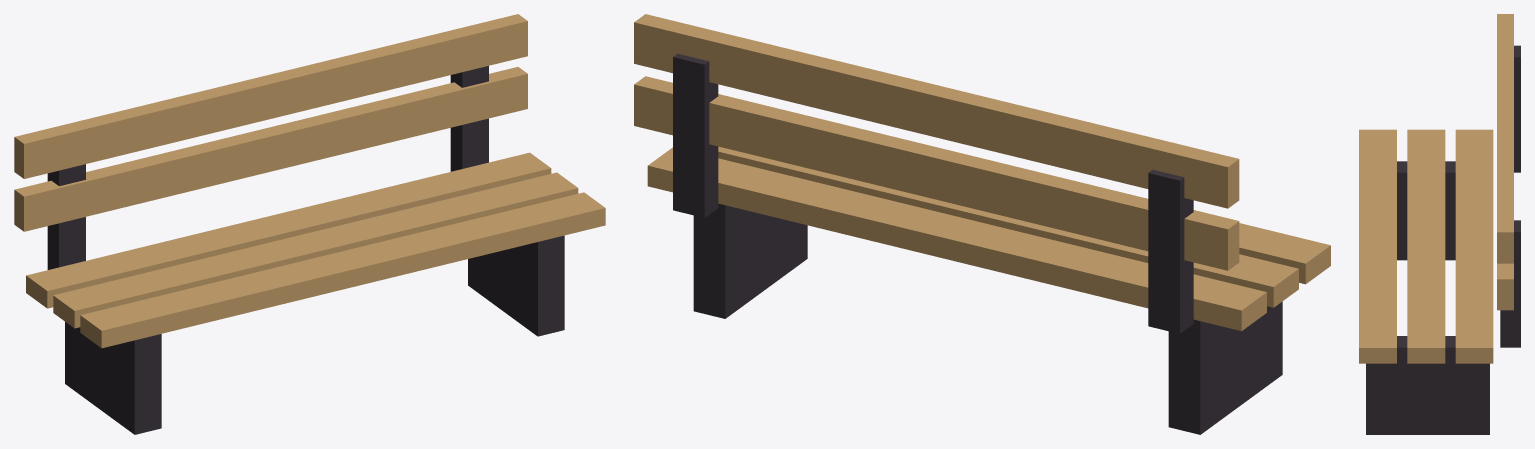
File: monatium_bench.glb
3 views of the same model, side by side, from view 1: azimuth 30°, elevation 25°; view 2: azimuth 150°, elevation 25°; view 3: azimuth 270°, elevation 25° (orthographic). The views are drawn at different scales.
Parts seen in each view (by area): view 1: monatium_bench_wood_detail, monatium_bench_dark_detail; view 2: monatium_bench_wood_detail, monatium_bench_dark_detail; view 3: monatium_bench_wood_detail, monatium_bench_dark_detail.
Part boxes in pixels (box(x1,y1,x2,y2)): monatium_bench_wood_detail: box(14, 14, 605, 348); monatium_bench_dark_detail: box(47, 66, 564, 434); monatium_bench_wood_detail: box(634, 14, 1330, 331); monatium_bench_dark_detail: box(673, 53, 1282, 434); monatium_bench_wood_detail: box(1359, 14, 1513, 363); monatium_bench_dark_detail: box(1366, 45, 1520, 434).
Bounding box in the file's own units: 1.5 × 0.7 × 0.47.
